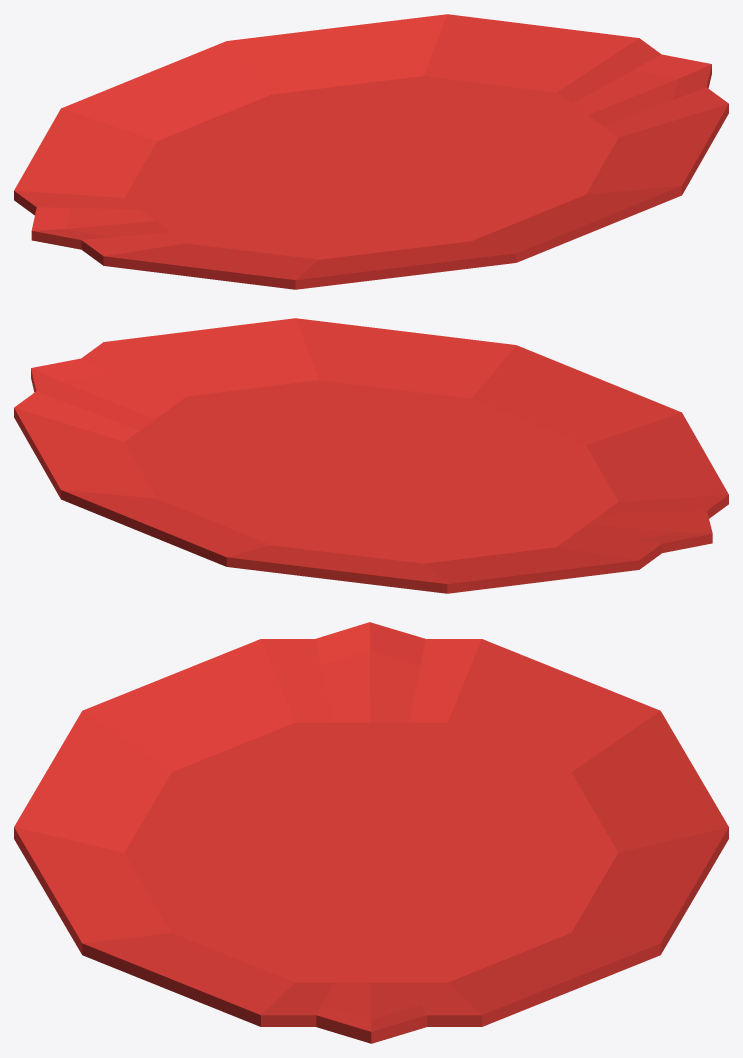
Rendered from SM_Tray_Christmas.fbx.
3 views of the same model, one above another, from view 1: azimuth 30°, elevation 25°; view 2: azimuth 150°, elevation 25°; view 3: azimuth 270°, elevation 25° (orthographic). The views are drawn at different scales.
Parts seen in each view (by area): view 1: tray-christmas; view 2: tray-christmas; view 3: tray-christmas.
Boxes of the visible parts, x1,y1,x2,y2 form: tray-christmas: (14,14,728,289); tray-christmas: (14,318,728,593); tray-christmas: (14,622,728,1043).
Size of the model in its own units: 0.6003 by 0.0256 by 0.4426.
